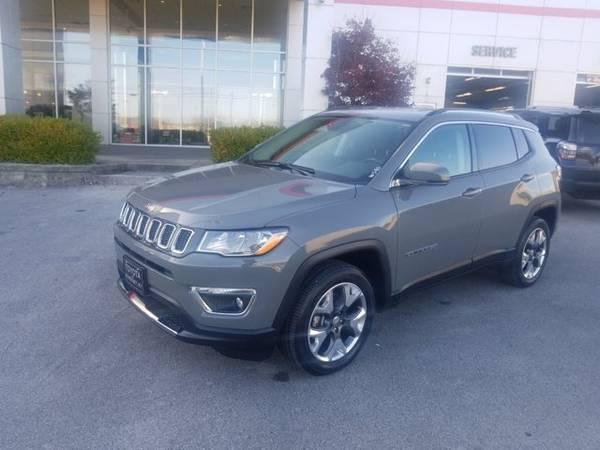Front_Bumper: (112, 220, 310, 336)
Front_Fender: (261, 180, 394, 303)
Front_Left_Door: (387, 172, 482, 303)
Front_Left_Window: (387, 121, 477, 190)
Front_Windshield: (233, 114, 417, 184)
Grille: (118, 199, 205, 258)
Hood: (130, 160, 359, 229)
Left_Headlight: (194, 227, 286, 257)
Rear_Fender: (511, 126, 561, 206)
Rear_Left_Door: (471, 159, 539, 268)
Rear_Left_Window: (468, 123, 525, 170)
Roof: (312, 102, 549, 184)
Wheel: (284, 263, 381, 378), (502, 218, 552, 287)
